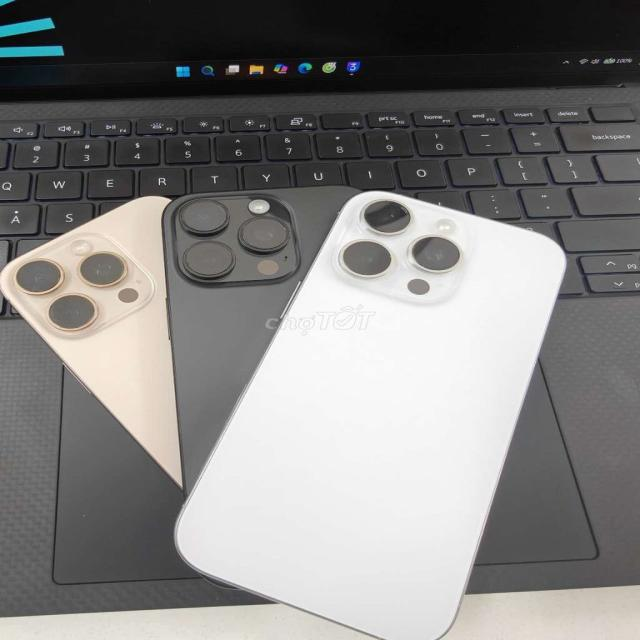gen_16: (175, 191, 565, 639)
